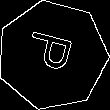P_E: (23, 31, 82, 80)
